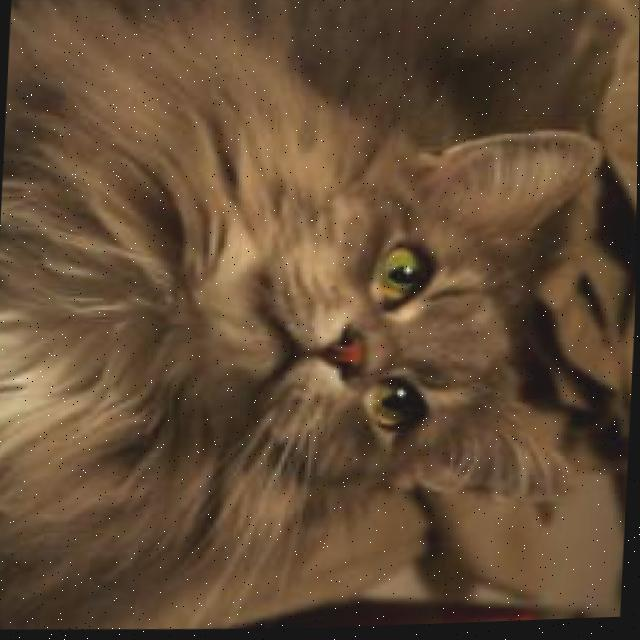Maine Coon: (0, 0, 636, 640)
